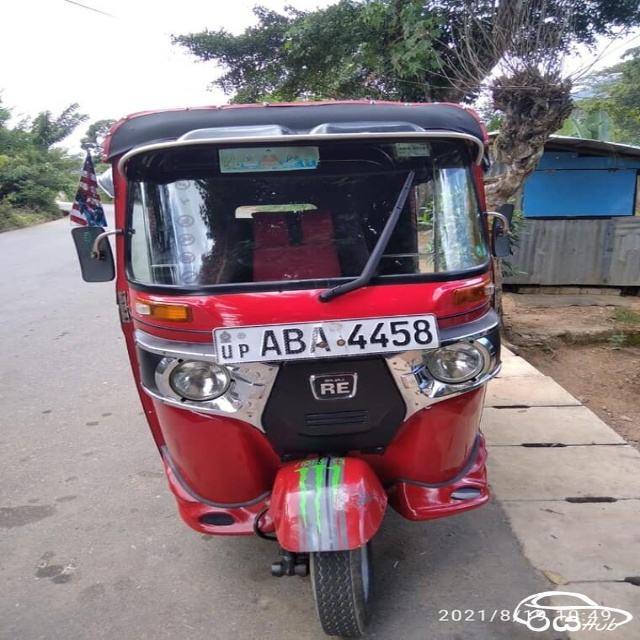Motorcycle: (72, 99, 515, 640)
